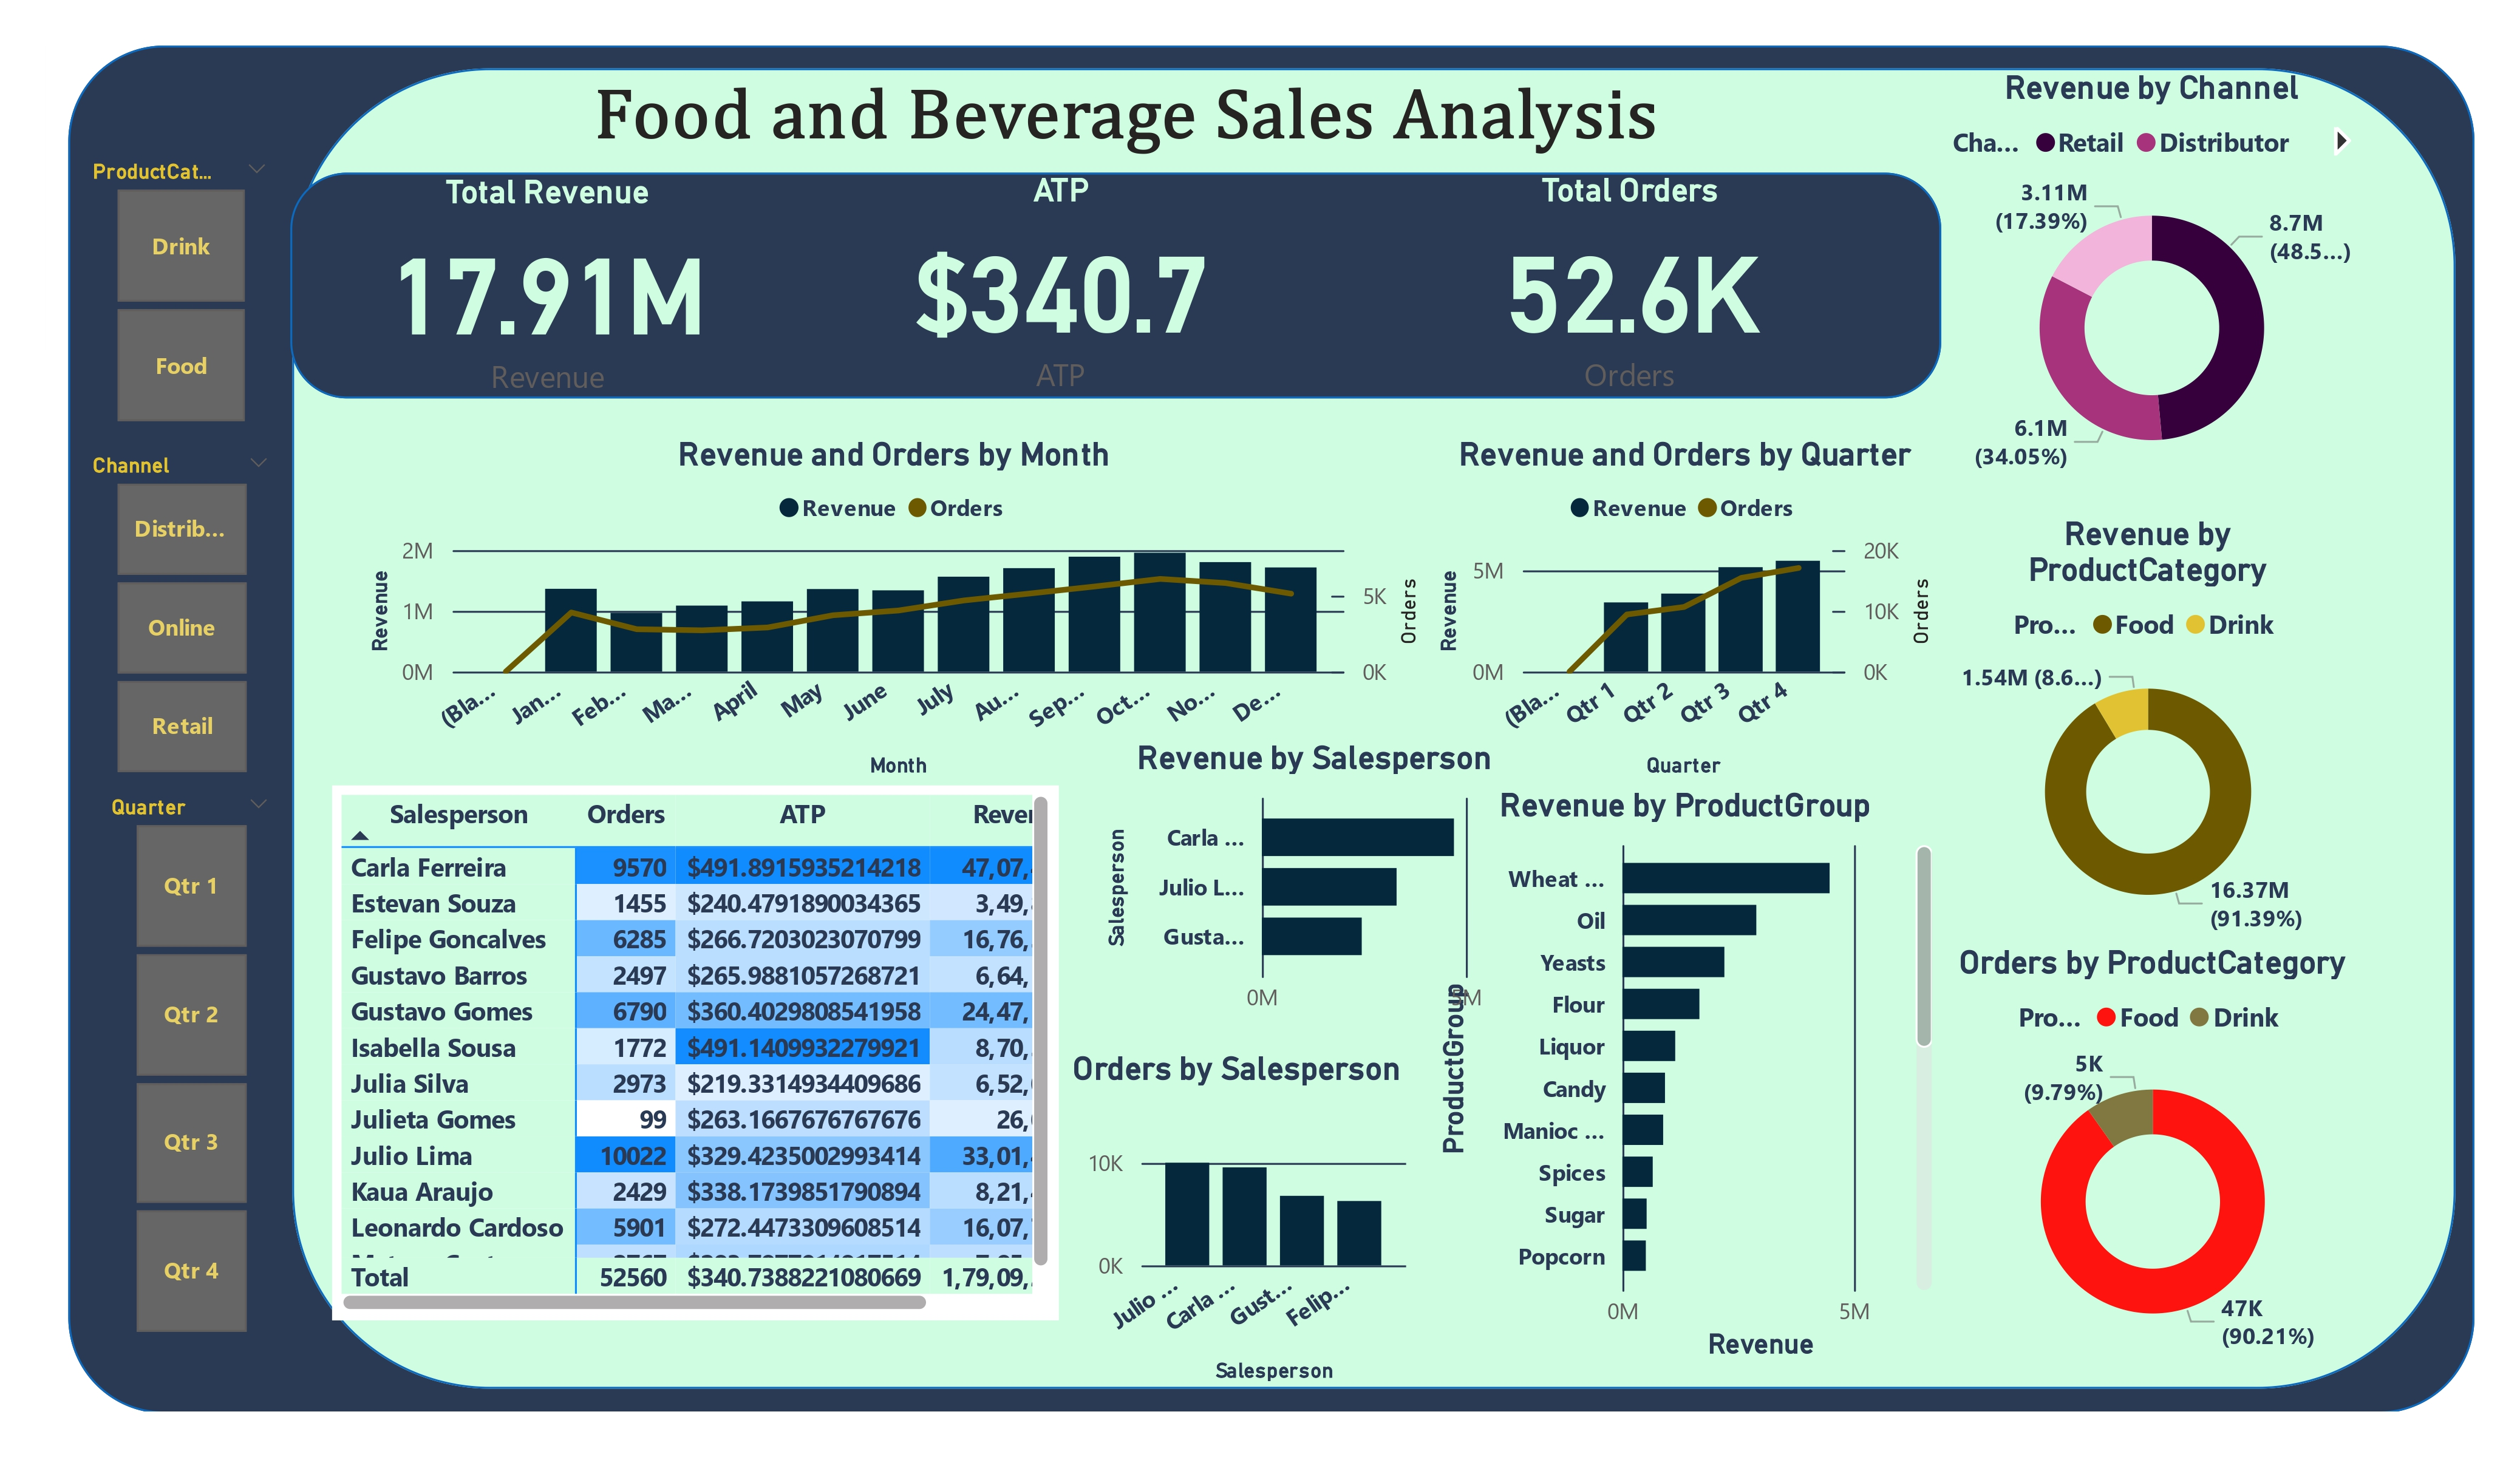

This screenshot's page, from the dashboard's own definition file:
{"tool":"powerbi","page":{"name":"Page 1","canvas":[1280,720],"ordinal":0},"visuals":[{"type":"shape","box":[11.8,0,1268.2,720.6],"z":0},{"type":"shape","box":[130,11.7,1140,696.7],"z":1000},{"type":"shape","box":[129.3,67.2,870.1,119.3],"z":2000},{"type":"card","title":"Total Revenue","fields":{"Values":["Product.Revenue"]},"box":[129.3,67.2,270.4,119.3],"z":3000},{"type":"card","title":"ATP","fields":{"Values":["Product.ATP"]},"box":[400,66,269.8,118.9],"z":4000},{"type":"card","title":"Total Orders","fields":{"Values":["Product.Orders"]},"box":[700,66,269.8,118.9],"z":5000},{"type":"donutChart","fields":{"Y":["Product.Revenue"],"Category":["Sheet1.Channel"]},"box":[1000,12,220,226],"z":6000},{"type":"donutChart","fields":{"Y":["Product.Revenue"],"Category":["Product.ProductCategory"]},"box":[998.4,246.8,219.4,225.8],"z":7000},{"type":"donutChart","fields":{"Category":["Product.ProductCategory"],"Y":["Product.Orders"]},"box":[1000,472.6,221,225.8],"z":8000},{"type":"lineStackedColumnComboChart","fields":{"Y":["Product.Revenue"],"Y2":["Product.Orders"],"Category":["Sheet1.OrderDate.Variation.Date Hierarchy.Quarter"]},"box":[729,204.9,270.4,184.8],"z":9000},{"type":"barChart","fields":{"Y":["Product.Revenue"],"Category":["Product.ProductGroup"]},"box":[729,389.7,270.4,307.4],"z":10000},{"type":"lineStackedColumnComboChart","fields":{"Y":["Product.Revenue"],"Y2":["Product.Orders"],"Category":["Sheet1.OrderDate.Variation.Date Hierarchy.Month"]},"box":[166.3,204.9,562.7,184.8],"z":11000},{"type":"barChart","fields":{"Y":["Product.Revenue"],"Category":["Sheet1.Salesperson"]},"box":[554.3,364.5,230.1,154.5],"z":12000},{"type":"clusteredColumnChart","fields":{"Category":["Sheet1.Salesperson"],"Y":["Product.Orders"]},"box":[534.2,529.1,188.1,179.7],"z":13000},{"type":"pivotTable","fields":{"Rows":["Sheet1.Salesperson"],"Values":["Product.Orders","Product.ATP","Product.Revenue"]},"box":[151.2,389.7,383,282.2],"z":14000},{"type":"slicer","fields":{"Values":["Product.ProductCategory"]},"box":[11.8,55.4,117.6,149.5],"z":15000},{"type":"slicer","fields":{"Values":["Sheet1.Channel"]},"box":[11.7,210,118.3,180],"z":16000},{"type":"slicer","fields":{"Values":["Sheet1.OrderDate.Variation.Date Hierarchy.Quarter"]},"box":[21.7,390,108.3,295],"z":17000},{"type":"textbox","box":[166.7,11.7,805,55],"z":18000}]}

Visuals, with their boxes on the page's 1280x720 design canvas (x1, y1, x2, y2). These are canvas units, not pixel positions in the 2520x1457 screenshot, which may show the page scaled, cropped or inside an application window:
shape: box=[12, 0, 1280, 721]
shape: box=[130, 12, 1270, 708]
shape: box=[129, 67, 999, 186]
"Total Revenue" card: box=[129, 67, 400, 186]
"ATP" card: box=[400, 66, 670, 185]
"Total Orders" card: box=[700, 66, 970, 185]
donutChart - Product.Revenue x Sheet1.Channel: box=[1000, 12, 1220, 238]
donutChart - Product.Revenue x Product.ProductCategory: box=[998, 247, 1218, 473]
donutChart - Product.ProductCategory x Product.Orders: box=[1000, 473, 1221, 698]
lineStackedColumnComboChart - Product.Revenue x Product.Orders: box=[729, 205, 999, 390]
barChart - Product.Revenue x Product.ProductGroup: box=[729, 390, 999, 697]
lineStackedColumnComboChart - Product.Revenue x Product.Orders: box=[166, 205, 729, 390]
barChart - Product.Revenue x Sheet1.Salesperson: box=[554, 364, 784, 519]
clusteredColumnChart - Sheet1.Salesperson x Product.Orders: box=[534, 529, 722, 709]
pivotTable - Sheet1.Salesperson x Product.Orders: box=[151, 390, 534, 672]
slicer - Product.ProductCategory: box=[12, 55, 129, 205]
slicer - Sheet1.Channel: box=[12, 210, 130, 390]
slicer - Sheet1.OrderDate.Variation.Date Hierarchy.Quarter: box=[22, 390, 130, 685]
textbox: box=[167, 12, 972, 67]
